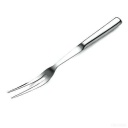fork: (9, 17, 127, 99)
